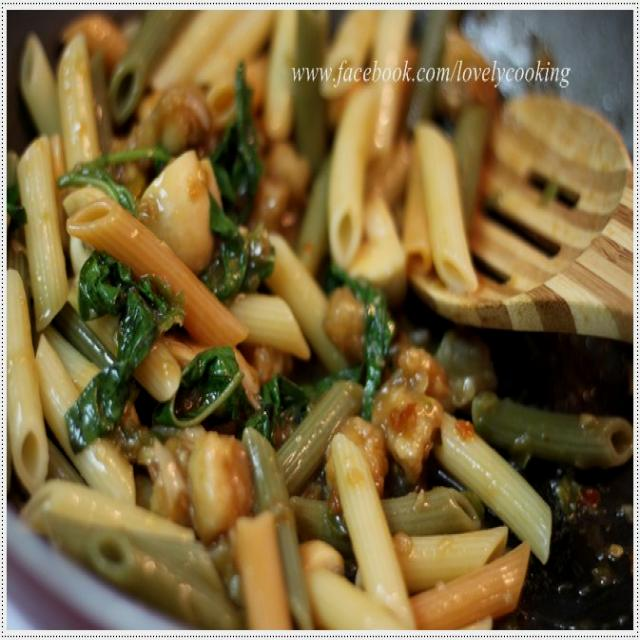pasta: (81, 68, 409, 608)
